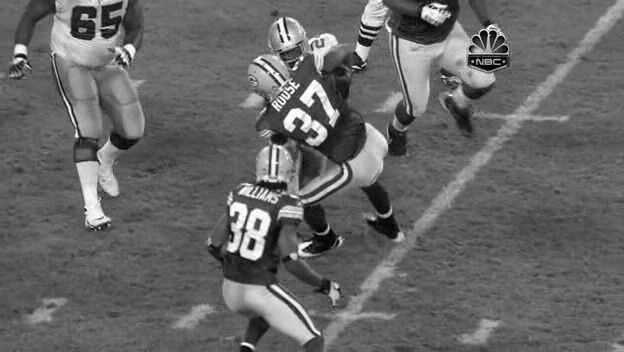person: (272, 28, 307, 72), (271, 28, 306, 72), (273, 28, 308, 72), (272, 27, 307, 71), (272, 29, 307, 73)
target_negative: (137, 5, 550, 113), (14, 194, 425, 261), (167, 255, 300, 322), (265, 244, 354, 344), (593, 167, 624, 326), (41, 331, 391, 335)
